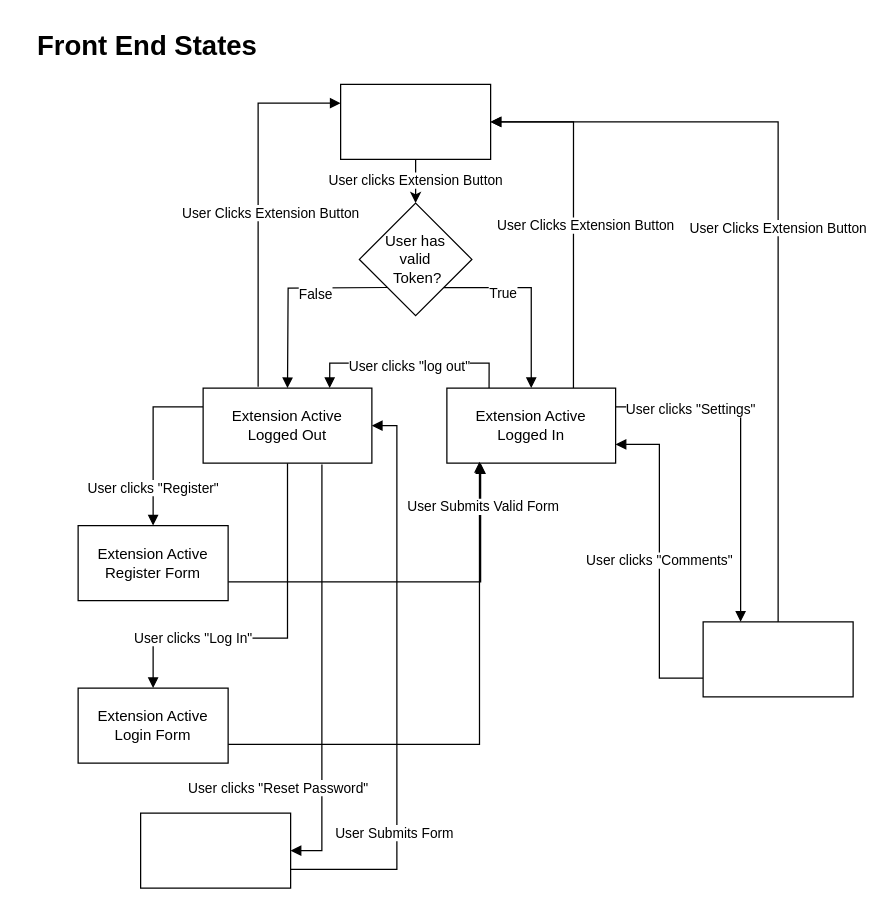
The diagram is 888 pixels wide and 910 high, and some of its shapes have lost their labels. The shapes that lost their labels are listed below. From the top down, each one's centre as x and y in pixels, then its label:
point 415,121: Extension Inactive
point 777,659: User Settings
point 215,850: Extension Active Reset Form
